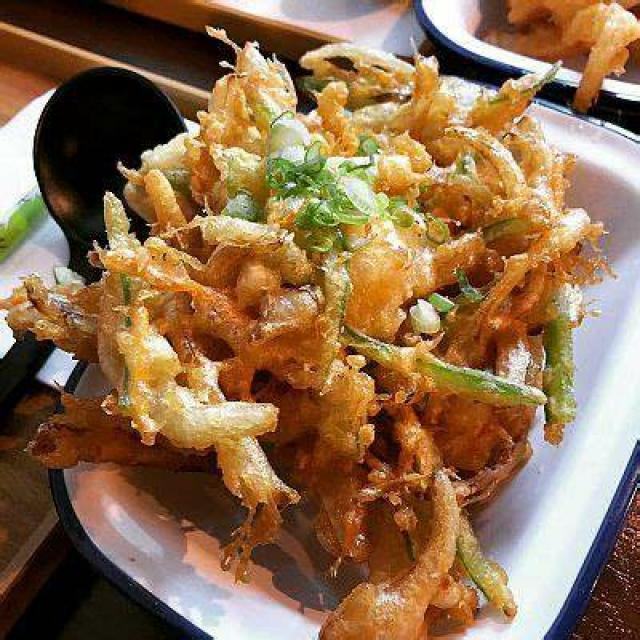Onion Pakora: (0, 25, 597, 640)
